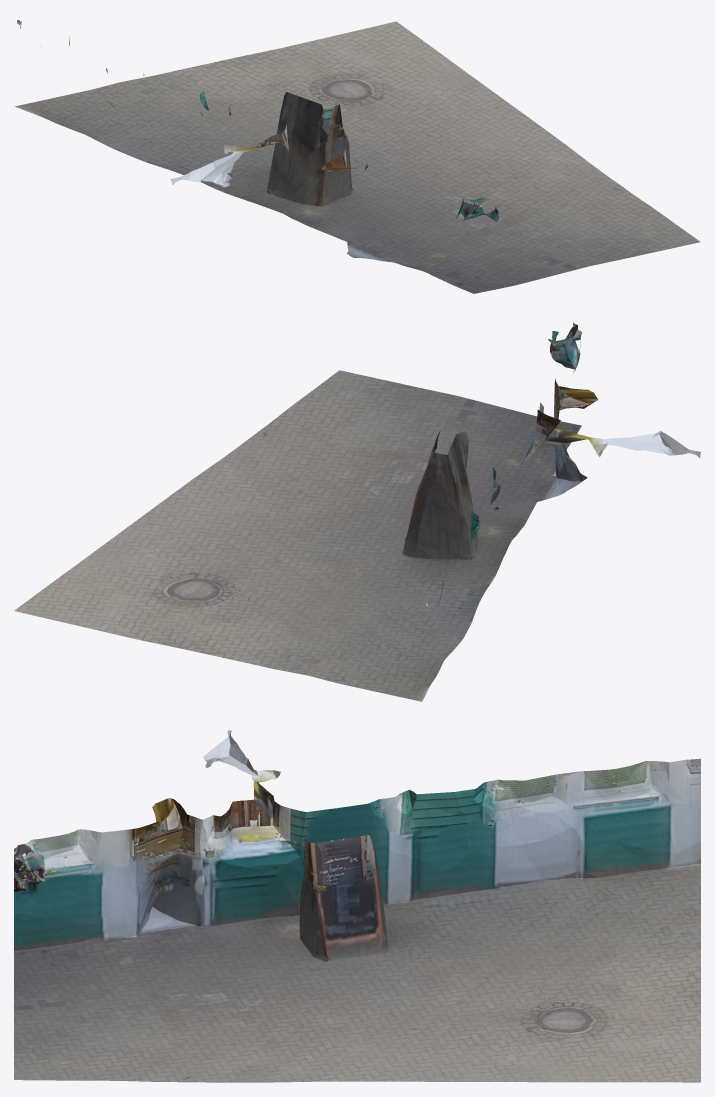
3 views of the same model, one above another, from view 1: azimuth 30°, elevation 25°; view 2: azimuth 150°, elevation 25°; view 3: azimuth 270°, elevation 25° (orthographic). The views are drawn at different scales.
Bounding box in the file's own units: 6.87 × 1.53 × 8.36.
Materials: 2 (2 with a texture image).
